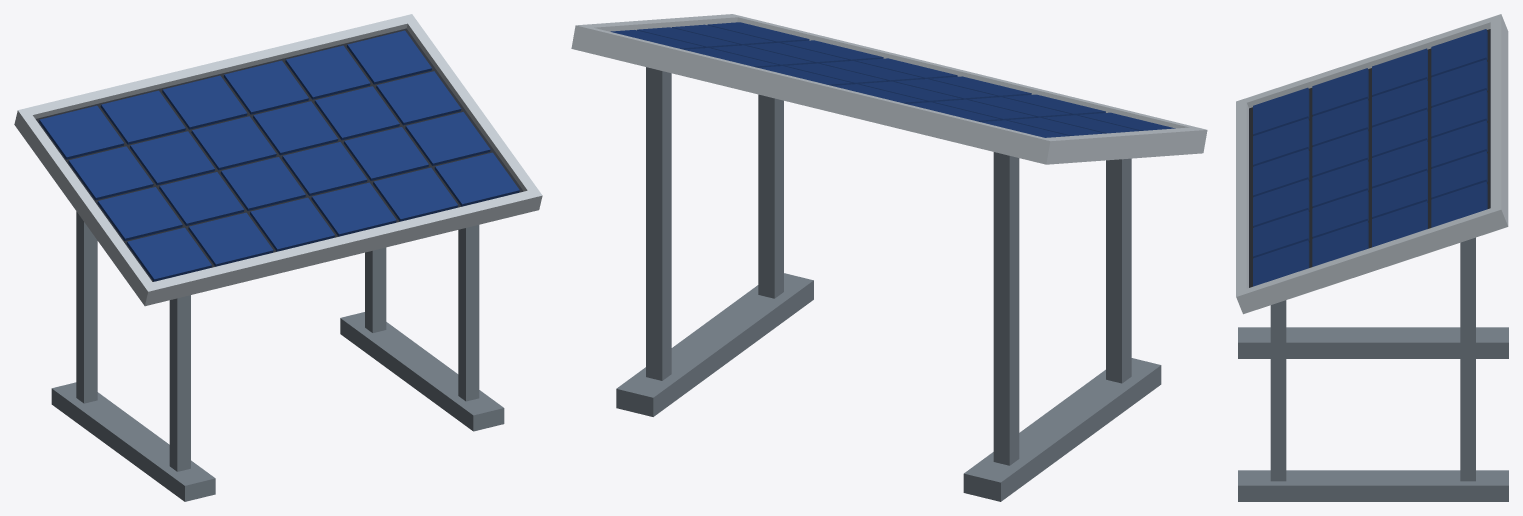
Rendered from panel_solar.glb.
3 renders of one model, left to right at view 1: azimuth 30°, elevation 25°; view 2: azimuth 150°, elevation 25°; view 3: azimuth 270°, elevation 25°, orthographic. The views are drawn at different scales.
Parts seen in each view (by area): view 1: End Frame, Panel Backing, Base Rail, Base Rail.001, End Frame.001, Side Frame, Support Leg.001, Support Leg.002, Support Leg, Side Frame.001, Cell_1_3, Cell_2_4 (+23 smaller); view 2: End Frame.001, Base Rail, Base Rail.001, Support Leg.001, Support Leg.003, Support Leg, Support Leg.002, Side Frame, End Frame, Side Frame.001, Cell_3_3, Cell_2_3 (+16 smaller); view 3: Base Rail.001, Base Rail, Side Frame.001, Support Leg.003, End Frame.001, Panel Backing, Support Leg.002, Side Frame, End Frame, Cell_1_1, Cell_3_4, Cell_5_2 (+21 smaller).
Boxes of the visible parts, left/top/right/bottom form: End Frame: left=148, top=190, right=537, bottom=304; Panel Backing: left=35, top=28, right=523, bottom=281; Base Rail: left=51, top=382, right=215, bottom=501; Base Rail.001: left=340, top=312, right=504, bottom=431; End Frame.001: left=23, top=15, right=411, bottom=118; Side Frame: left=14, top=108, right=157, bottom=306; Support Leg.001: left=76, top=211, right=97, bottom=403; Support Leg.002: left=458, top=225, right=479, bottom=401; Support Leg: left=169, top=295, right=190, bottom=471; Side Frame.001: left=403, top=14, right=542, bottom=211; Cell_1_3: left=68, top=146, right=153, bottom=200; Cell_2_4: left=100, top=90, right=185, bottom=144; End Frame.001: left=577, top=27, right=1049, bottom=162; Base Rail: left=963, top=358, right=1161, bottom=501; Base Rail.001: left=616, top=273, right=813, bottom=416; Support Leg.001: left=993, top=152, right=1019, bottom=465; Support Leg.003: left=646, top=67, right=671, bottom=380; Support Leg: left=1106, top=158, right=1131, bottom=383; Support Leg.002: left=758, top=94, right=783, bottom=298; Side Frame: left=1035, top=127, right=1207, bottom=164; End Frame: left=733, top=15, right=1194, bottom=128; Side Frame.001: left=571, top=14, right=737, bottom=49; Cell_3_3: left=859, top=81, right=961, bottom=102; Cell_2_3: left=933, top=99, right=1035, bottom=120; Base Rail.001: left=1238, top=470, right=1508, bottom=501; Base Rail: left=1238, top=327, right=1508, bottom=358; Side Frame.001: left=1236, top=205, right=1508, bottom=314; Support Leg.003: left=1460, top=237, right=1475, bottom=481; End Frame.001: left=1490, top=16, right=1508, bottom=223; Panel Backing: left=1249, top=29, right=1490, bottom=287; Support Leg.002: left=1270, top=300, right=1286, bottom=481; Side Frame: left=1236, top=14, right=1508, bottom=108; End Frame: left=1236, top=100, right=1248, bottom=294; Cell_1_1: left=1253, top=87, right=1309, bottom=135; Cell_3_4: left=1431, top=90, right=1487, bottom=138; Cell_5_2: left=1312, top=190, right=1368, bottom=238.
Bounding box in the file's own units: 2.05 × 1.52 × 1.21.
